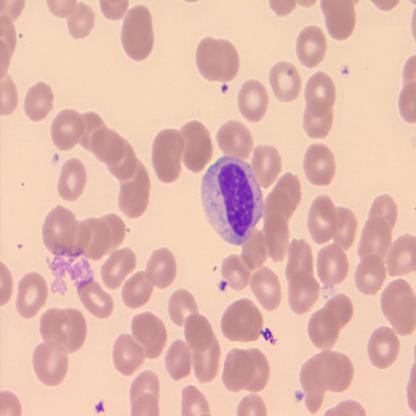Metamyelocyte: (199, 153, 265, 249)
